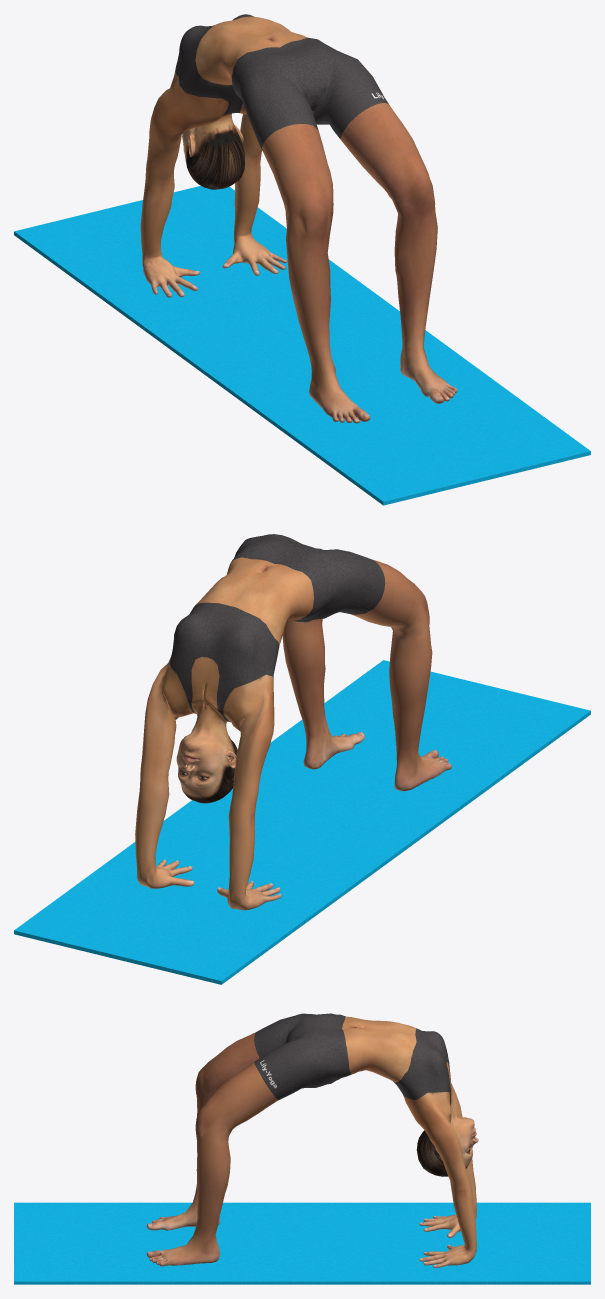
The model's file is urdhva_dhanurasana.glb.
3 renders of one model, top to bottom at view 1: azimuth 30°, elevation 25°; view 2: azimuth 150°, elevation 25°; view 3: azimuth 270°, elevation 25°, orthographic. The views are drawn at different scales.
Parts seen in each view (by area): view 1: Mat-one-piece_jpg-material, Lily_Texture01_06_2016_jpg-material; view 2: Mat-one-piece_jpg-material, Lily_Texture01_06_2016_jpg-material; view 3: Mat-one-piece_jpg-material, Lily_Texture01_06_2016_jpg-material.
Part boxes in pixels (bbox=[...]): Mat-one-piece_jpg-material: bbox=[14, 186, 590, 505]; Lily_Texture01_06_2016_jpg-material: bbox=[140, 14, 457, 423]; Mat-one-piece_jpg-material: bbox=[14, 660, 590, 984]; Lily_Texture01_06_2016_jpg-material: bbox=[135, 534, 451, 910]; Mat-one-piece_jpg-material: bbox=[14, 1202, 590, 1284]; Lily_Texture01_06_2016_jpg-material: bbox=[146, 1013, 478, 1267].
Size of the model in its own units: 2 by 2.61 by 6.17.
3 materials, 2 textured.
